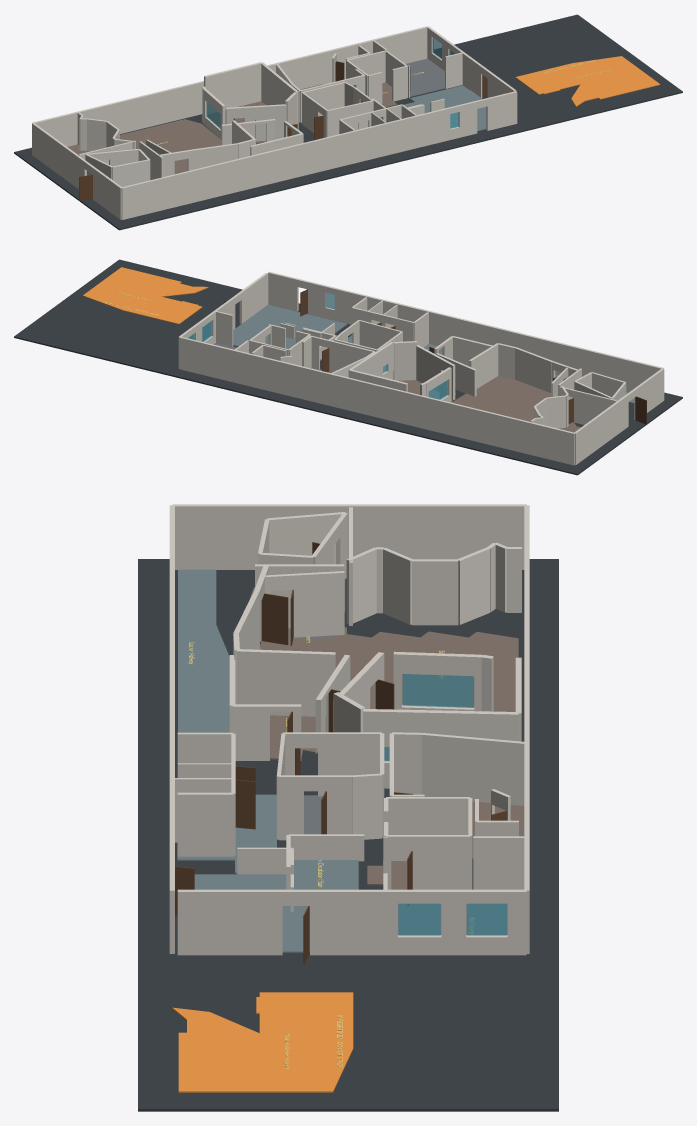
The model's file is building.glb.
The picture shows the model from 3 angles, top to bottom: view 1: azimuth 30°, elevation 25°; view 2: azimuth 150°, elevation 25°; view 3: azimuth 270°, elevation 25°; orthographic projection. The views are drawn at different scales.
Parts seen in each view (by area): view 1: Context_Ground, Wall_outer-south_01, Wall_outer-north_01, Floor_mezzanine-review, Floor_studio-a-live, Wall_control-north_01, Wall_outer-west_02, Floor_bar-lounge, Wall_outer-south_03, Wall_live-control-west-03_02, Wall_outer-west_01, Wall_live-south-02_01 (+20 smaller); view 2: Context_Ground, Wall_outer-north_01, Wall_outer-south_01, Floor_mezzanine-review, Floor_studio-a-live, Wall_outer-west_02, Floor_kitchen, Wall_live-south-02_01, Wall_outer-south_03, Wall_outer-east_04, Wall_rehearsal-south_01, Wall_control-south_01 (+18 smaller); view 3: Context_Ground, Floor_mezzanine-review, Floor_studio-a-live, Wall_outer-west_02, Floor_locker-hallway, Wall_outer-east_04, Wall_recording-west_01, Wall_outer-west_01, Wall_outer-east_03, Wall_live-southeast_01, Floor_main-circulation, Wall_bathrooms-east_01 (+38 smaller).
Boxes of the visible parts, x1,y1,x2,y2 form: Context_Ground: (14,14,682,230); Wall_outer-south_01: (121,107,450,219); Wall_outer-north_01: (32,26,427,146); Floor_mezzanine-review: (515,56,660,106); Floor_studio-a-live: (120,119,221,174); Wall_control-north_01: (204,62,261,113); Wall_outer-west_02: (32,123,86,188); Floor_bar-lounge: (405,58,445,97); Wall_outer-south_03: (486,91,517,130); Wall_live-control-west-03_02: (244,104,286,141); Wall_outer-west_01: (93,167,122,219); Wall_live-south-02_01: (190,143,237,170); Context_Ground: (14,259,682,475); Wall_outer-north_01: (179,337,574,465); Wall_outer-south_01: (334,288,663,392); Floor_mezzanine-review: (83,267,208,324); Floor_studio-a-live: (452,376,551,421); Wall_outer-west_02: (574,394,628,465); Floor_kitchen: (233,304,347,343); Wall_live-south-02_01: (515,347,552,392); Wall_outer-south_03: (268,271,298,311); Wall_outer-east_04: (239,273,268,323); Wall_rehearsal-south_01: (574,390,616,424); Wall_control-south_01: (394,341,416,380); Context_Ground: (138,559,558,1111); Floor_mezzanine-review: (172,992,353,1092); Floor_studio-a-live: (260,627,518,716); Wall_outer-west_02: (315,504,526,569); Floor_locker-hallway: (178,569,229,732); Wall_outer-east_04: (177,889,282,955); Wall_recording-west_01: (422,733,526,805); Wall_outer-west_01: (172,504,282,569); Wall_outer-east_03: (310,889,397,955); Wall_live-southeast_01: (237,649,335,716); Floor_main-circulation: (177,794,358,950); Wall_bathrooms-east_01: (177,792,233,856).
Size of the model in its own units: 51.19 by 3.47 by 16.5.
